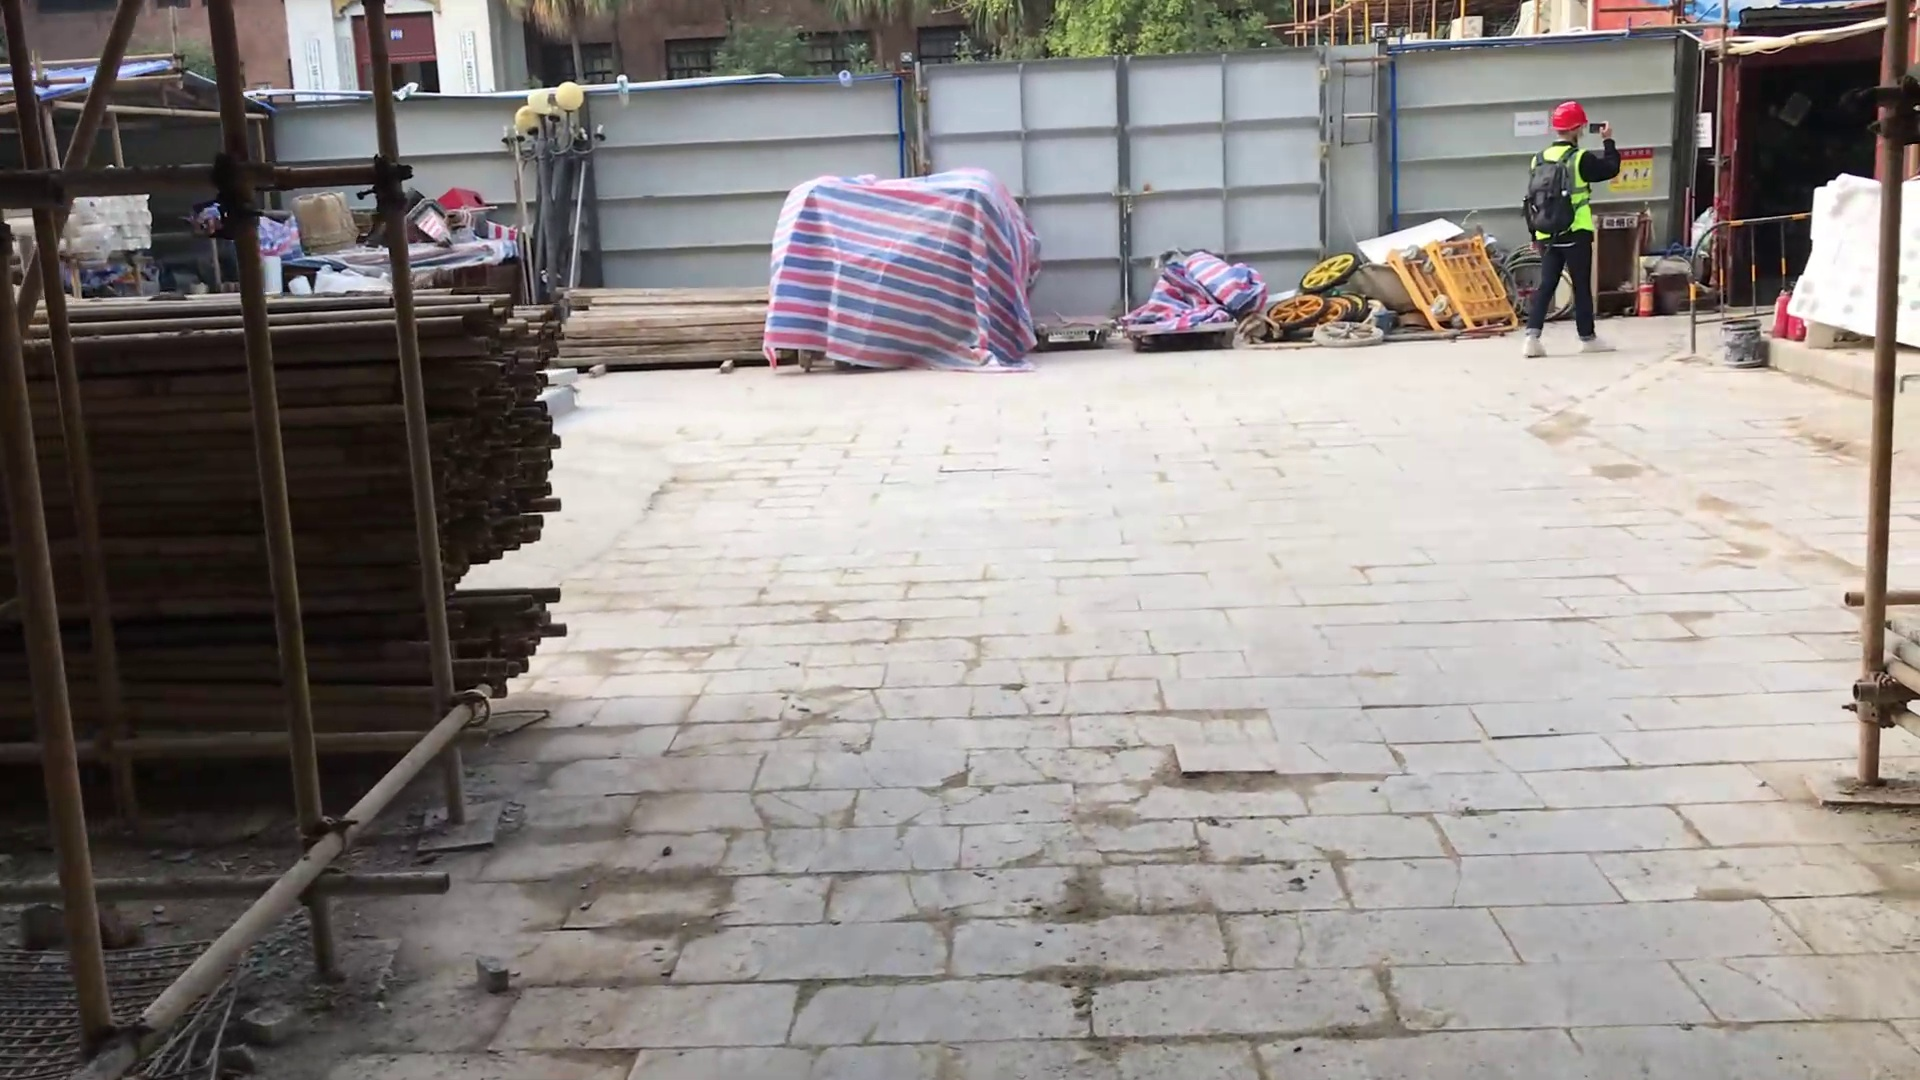helmet: (1548, 90, 1601, 138)
person: (1511, 94, 1634, 368)
vest: (1528, 141, 1611, 249)
